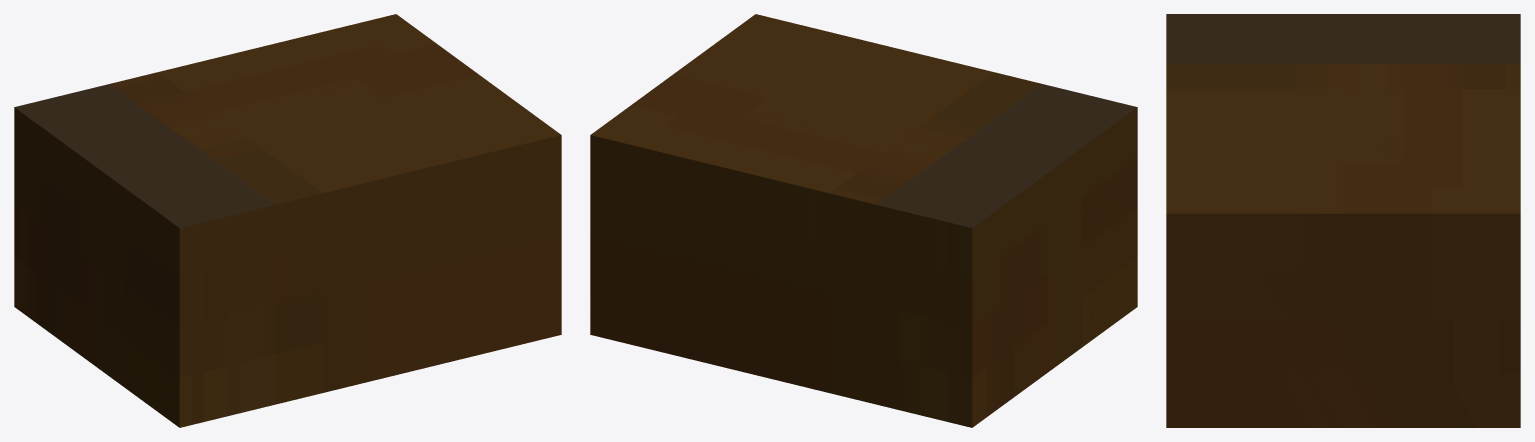
The model's file is jackWood.glb.
3 views of the same model, side by side, from view 1: azimuth 30°, elevation 25°; view 2: azimuth 150°, elevation 25°; view 3: azimuth 270°, elevation 25° (orthographic). The views are drawn at different scales.
Visible parts, largest first — view 1: Cube; view 2: Cube; view 3: Cube.
Boxes of the visible parts, box(x1,y1,x2,y2) form: Cube: box(14, 14, 561, 427); Cube: box(590, 14, 1137, 427); Cube: box(1166, 14, 1520, 427).
Bounding box in the file's own units: 4 × 2 × 3.
Materials: 1 (1 with a texture image).
